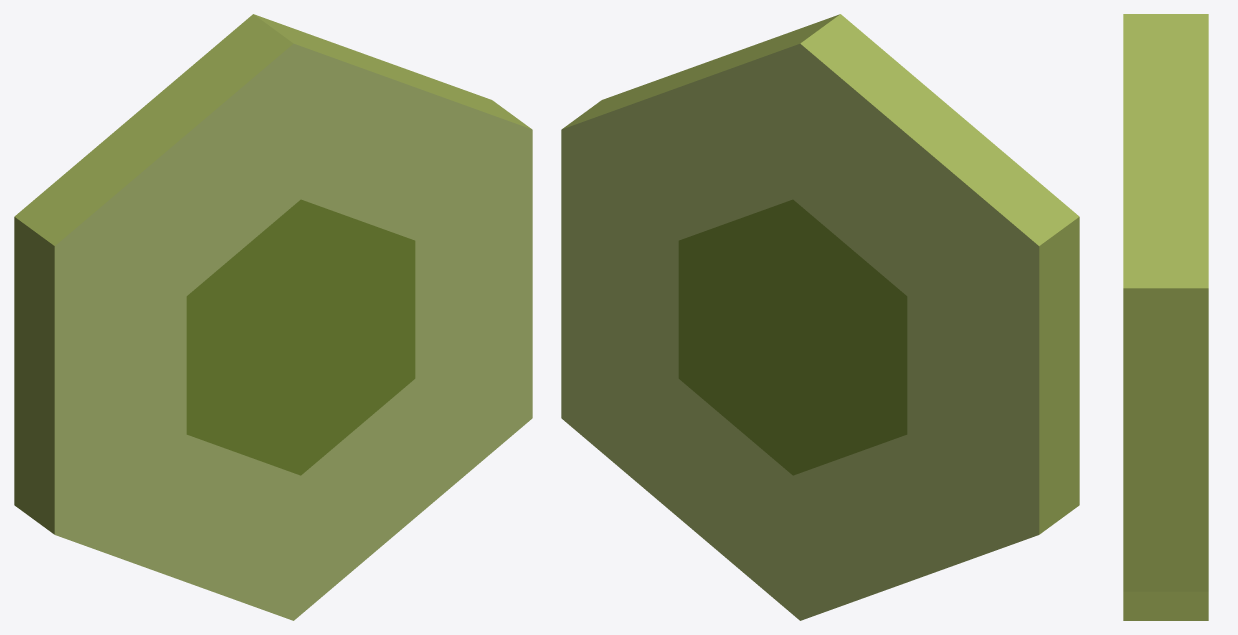
Rendered from coin3.fbx.
3 views of the same model, side by side, from view 1: azimuth 30°, elevation 25°; view 2: azimuth 150°, elevation 25°; view 3: azimuth 270°, elevation 25° (orthographic). The views are drawn at different scales.
Parts seen in each view (by area): view 1: Mesh_Coin3; view 2: Mesh_Coin3; view 3: Mesh_Coin3.
Part boxes in pixels (<box>): Mesh_Coin3: <box>14,14,532,620</box>; Mesh_Coin3: <box>561,14,1079,620</box>; Mesh_Coin3: <box>1123,14,1208,620</box>.
Size of the model in its own units: 0.5443 by 0.1082 by 0.6285.
